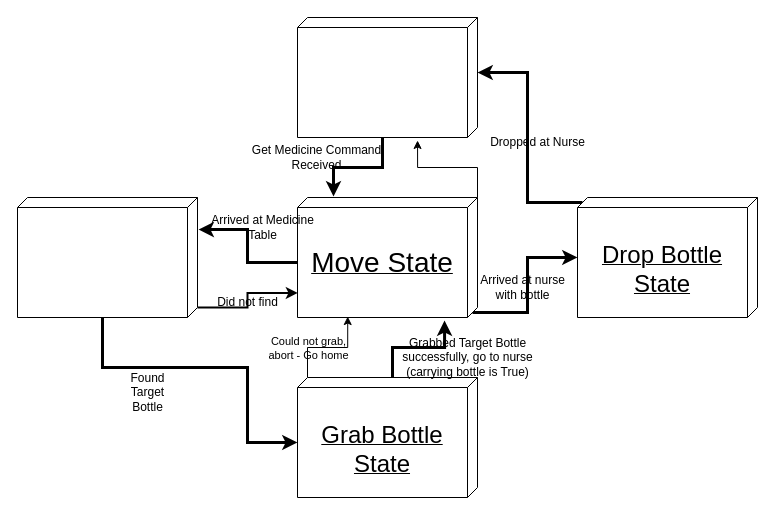
Image size: 775x525. Some labels were removed from this diagram. The shapes that lost their labels are listed below. From the top down, each one's box as (x1, y1, x2, y2) in pixels, then its label:
(296, 16, 478, 138): Rest State
(16, 196, 198, 318): Recognise Meds State
